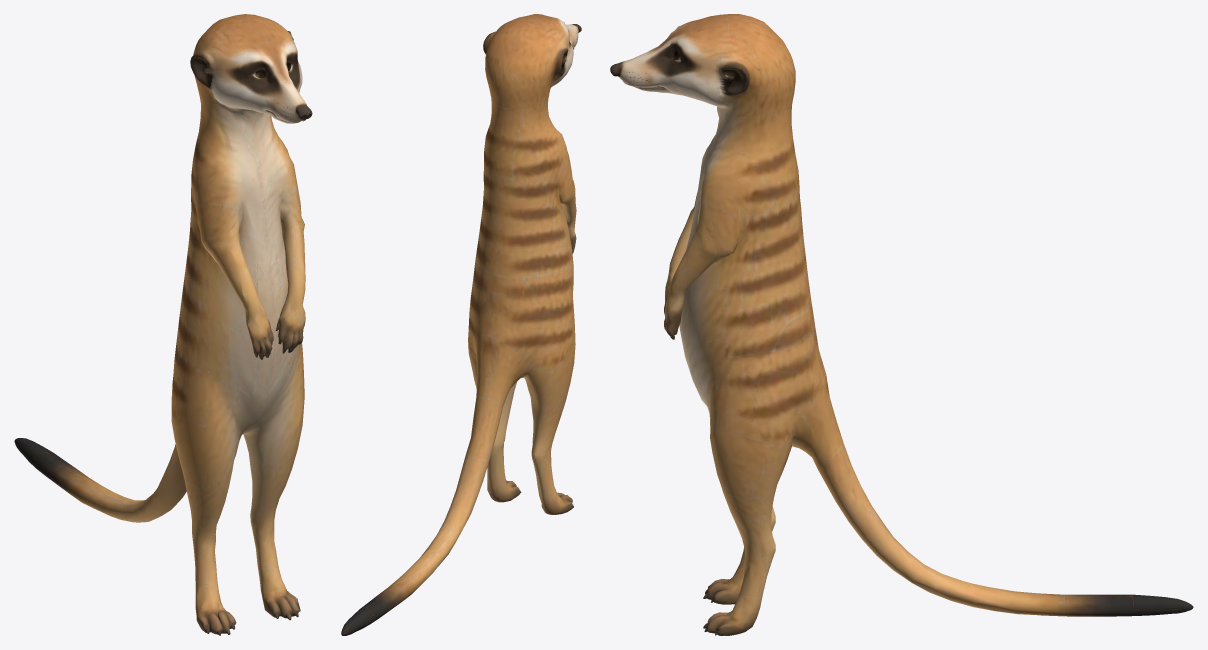
The model's file is meerkat-moa-stand.glb.
3 views of the same model, side by side, from view 1: azimuth 30°, elevation 25°; view 2: azimuth 150°, elevation 25°; view 3: azimuth 270°, elevation 25° (orthographic). The views are drawn at different scales.
Parts seen in each view (by area): view 1: geometry_0; view 2: geometry_0; view 3: geometry_0.
Boxes of the visible parts, box(x1,y1,x2,y2) form: geometry_0: box(14, 14, 312, 635); geometry_0: box(341, 14, 581, 635); geometry_0: box(610, 14, 1193, 635).
Size of the model in its own units: 0.1948 by 0.9517 by 0.8457.
1 material, 1 textured.
